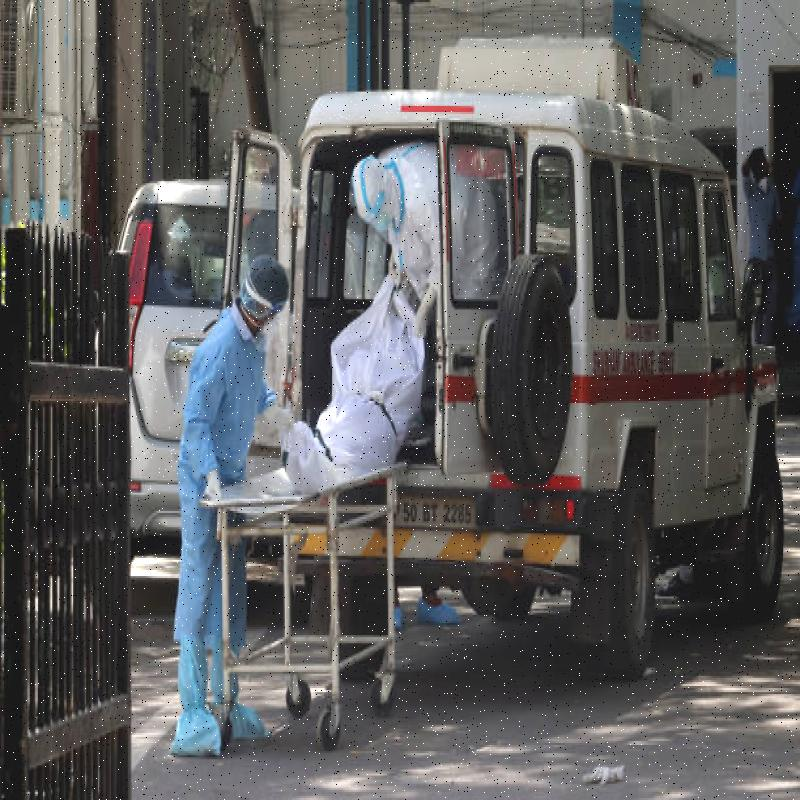ambulance: (217, 59, 799, 624)
